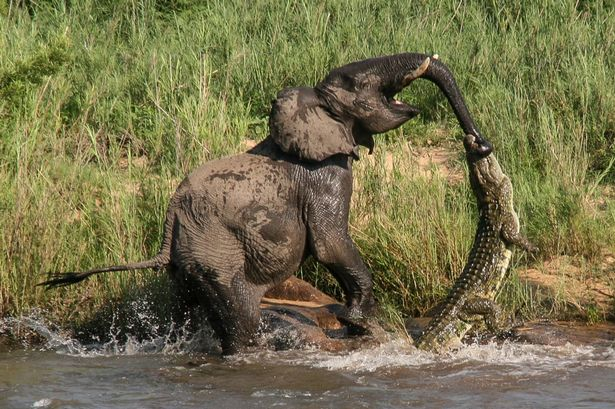Crocodile: (416, 118, 537, 367)
elephant: (88, 45, 476, 374)
